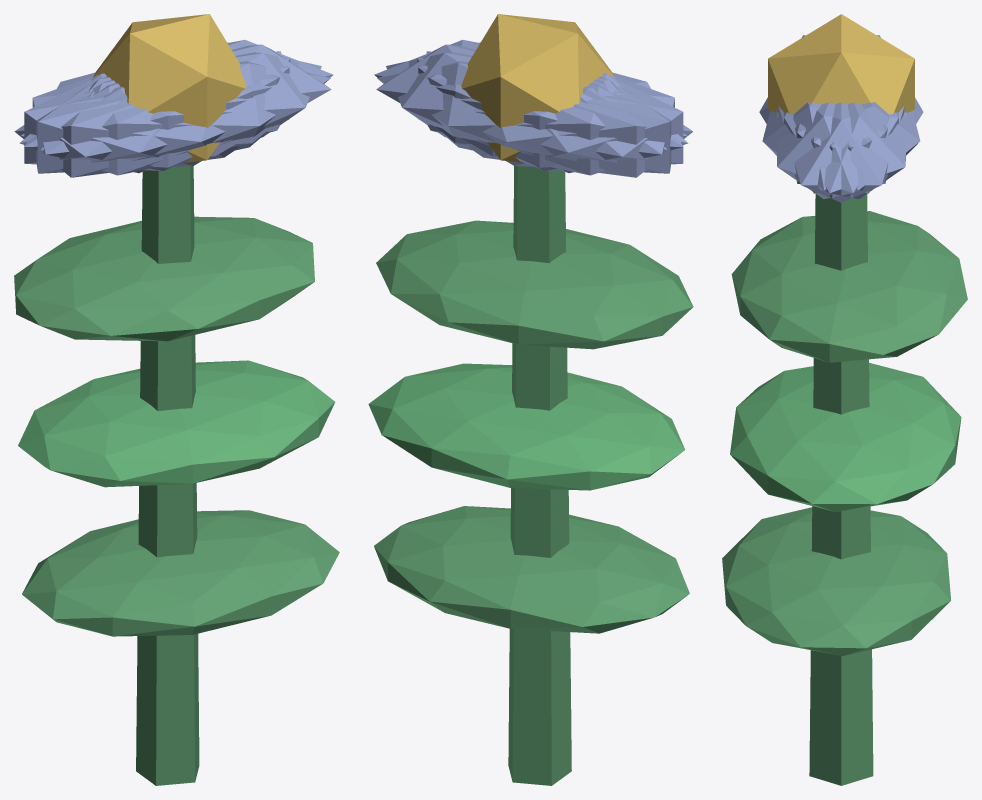
File: azadirachta-indica.glb
3 renders of one model, left to right at view 1: azimuth 30°, elevation 25°; view 2: azimuth 150°, elevation 25°; view 3: azimuth 270°, elevation 25°, orthographic.
Visible parts, largest first — view 1: leaf0, leaf1, leaf2, stem, center, petal1, petal6, petal2, petal5, petal7, petal0, petal4 (+2 smaller); view 2: leaf2, leaf1, leaf0, stem, center, petal8, petal3, petal7, petal4, petal2, petal0, petal5 (+2 smaller); view 3: leaf1, leaf2, leaf0, stem, center, petal0, petal4, petal5, petal1, petal8.
Boxes of the visible parts, x1=… form: leaf0: x1=22, y1=510, x2=339, y2=636; leaf1: x1=18, y1=360, x2=334, y2=487; leaf2: x1=14, y1=216, x2=314, y2=341; stem: x1=136, y1=166, x2=199, y2=785; center: x1=93, y1=14, x2=246, y2=162; petal1: x1=19, y1=61, x2=330, y2=175; petal6: x1=14, y1=75, x2=239, y2=177; petal2: x1=36, y1=51, x2=281, y2=173; petal5: x1=40, y1=52, x2=321, y2=167; petal7: x1=24, y1=58, x2=290, y2=170; petal0: x1=93, y1=44, x2=331, y2=156; petal4: x1=21, y1=40, x2=333, y2=147; leaf2: x1=376, y1=220, x2=693, y2=349; leaf1: x1=368, y1=363, x2=684, y2=490; leaf0: x1=374, y1=506, x2=689, y2=633; stem: x1=508, y1=166, x2=571, y2=785; center: x1=461, y1=14, x2=614, y2=162; petal8: x1=377, y1=61, x2=688, y2=175; petal3: x1=468, y1=75, x2=692, y2=177; petal7: x1=426, y1=51, x2=671, y2=173; petal4: x1=386, y1=52, x2=666, y2=167; petal2: x1=417, y1=58, x2=683, y2=170; petal0: x1=376, y1=44, x2=614, y2=156; petal5: x1=374, y1=39, x2=686, y2=147; leaf1: x1=730, y1=362, x2=961, y2=511; leaf2: x1=731, y1=211, x2=967, y2=362; leaf0: x1=722, y1=507, x2=950, y2=655; stem: x1=809, y1=194, x2=873, y2=785; center: x1=768, y1=14, x2=914, y2=114; petal0: x1=778, y1=102, x2=904, y2=202; petal4: x1=784, y1=102, x2=906, y2=198; petal5: x1=776, y1=102, x2=898, y2=198; petal1: x1=762, y1=102, x2=887, y2=190; petal8: x1=795, y1=102, x2=920, y2=190.
Size of the model in its own units: 0.1452 by 0.3394 by 0.1024.
